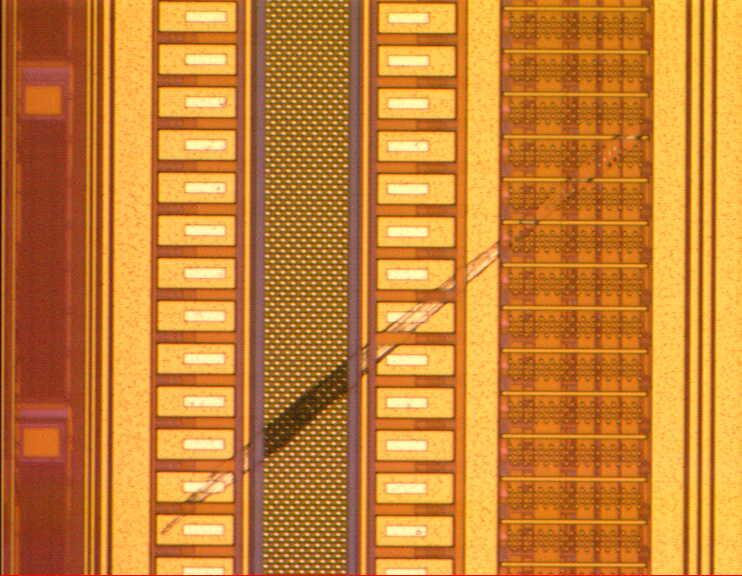SCRATCH: (147, 110, 659, 541)
